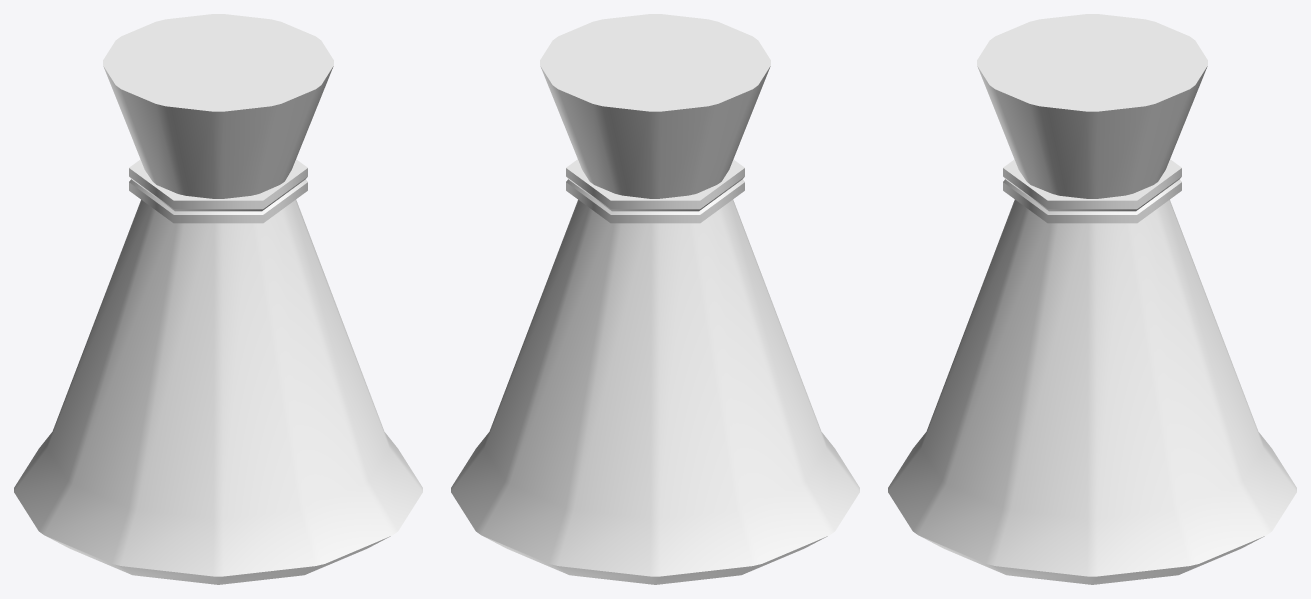
The model's file is rice_straw01.fbx.
The picture shows the model from 3 angles, left to right: view 1: azimuth 30°, elevation 25°; view 2: azimuth 150°, elevation 25°; view 3: azimuth 270°, elevation 25°; orthographic projection.
Visible parts, largest first — view 1: rice_straw01; view 2: rice_straw01; view 3: rice_straw01.
Boxes of the visible parts, x1,y1,x2,y2 form: rice_straw01: [14, 14, 422, 584]; rice_straw01: [451, 14, 859, 584]; rice_straw01: [888, 14, 1296, 584].
Size of the model in its own units: 7.32 by 8.88 by 7.32.
